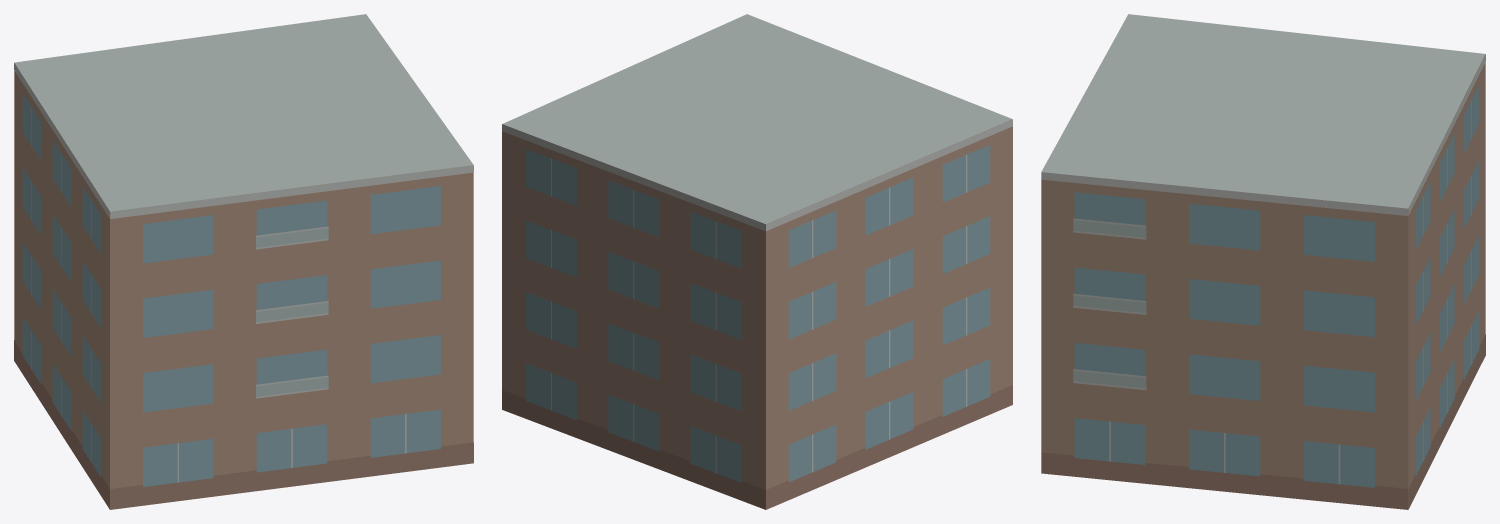
File: survey-upis-32916950.glb
3 renders of one model, left to right at view 1: azimuth 30°, elevation 25°; view 2: azimuth 150°, elevation 25°; view 3: azimuth 270°, elevation 25°, orthographic. The views are drawn at different scales.
Visible parts, largest first — view 1: survey-upis-32916950.tmp; view 2: survey-upis-32916950.tmp; view 3: survey-upis-32916950.tmp.
Boxes of the visible parts, x1,y1,x2,y2 form: survey-upis-32916950.tmp: [14, 14, 473, 509]; survey-upis-32916950.tmp: [502, 14, 1012, 509]; survey-upis-32916950.tmp: [1041, 14, 1485, 509].
Size of the model in its own units: 13.59 by 9.8 by 13.12.
